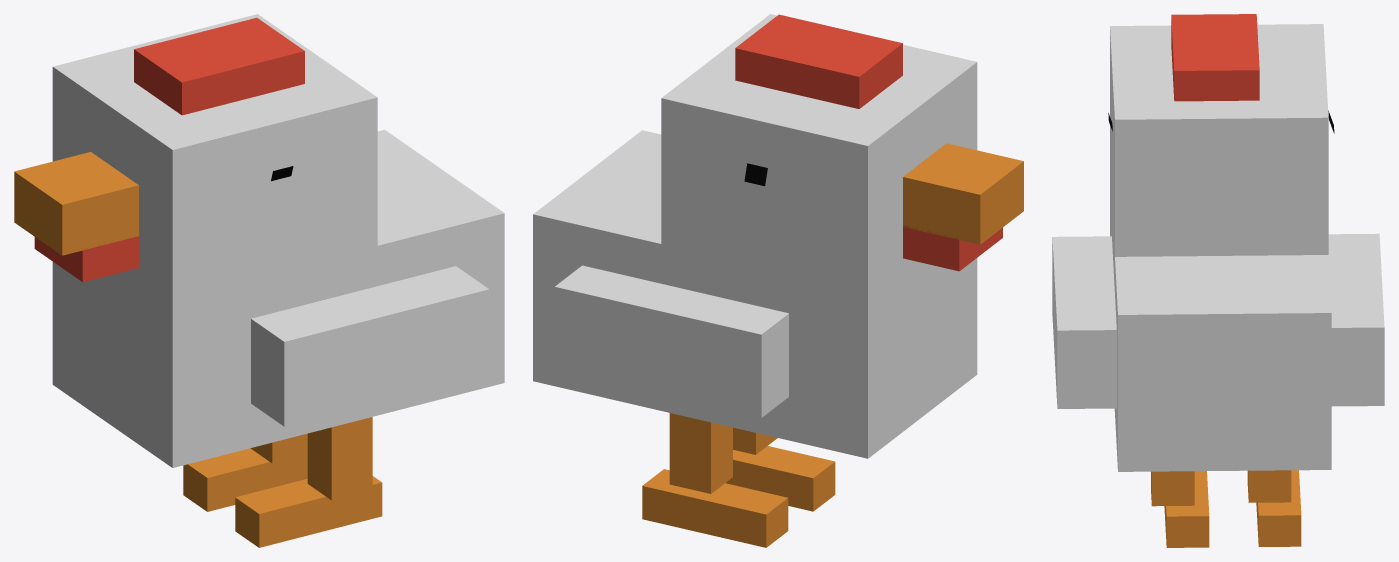
File: Personaje.glb
The picture shows the model from 3 angles, left to right: view 1: azimuth 30°, elevation 25°; view 2: azimuth 150°, elevation 25°; view 3: azimuth 270°, elevation 25°; orthographic projection. The views are drawn at different scales.
Parts seen in each view (by area): view 1: Cubo.065; view 2: Cubo.065; view 3: Cubo.065.
Boxes of the visible parts, <box> form: Cubo.065: <box>14,14,504,547</box>; Cubo.065: <box>533,14,1023,547</box>; Cubo.065: <box>1052,14,1384,547</box>.
Bounding box in the file's own units: 1.79 × 1.97 × 1.34.
